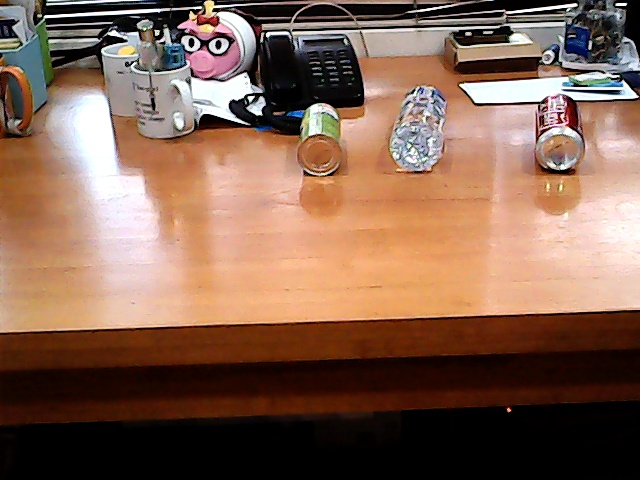Cola: (514, 85, 600, 186)
Pine Juice: (279, 89, 360, 192)
Summit Water: (379, 72, 459, 188)
